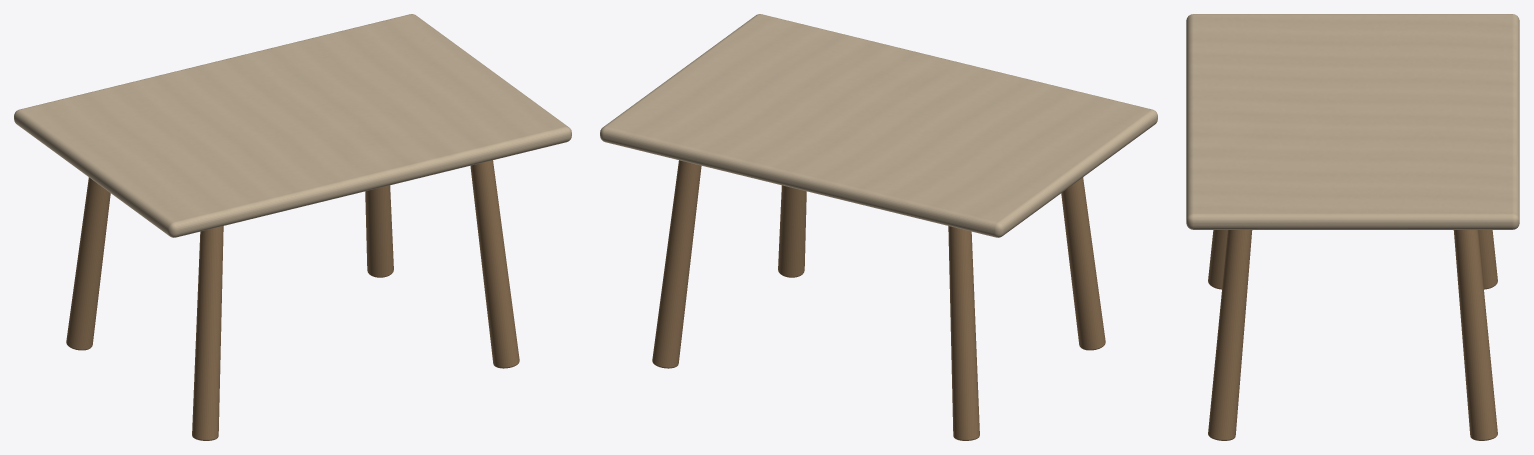
3 views of the same model, side by side, from view 1: azimuth 30°, elevation 25°; view 2: azimuth 150°, elevation 25°; view 3: azimuth 270°, elevation 25° (orthographic). The views are drawn at different scales.
Visible parts, largest first — view 1: tabletop, leg_-1_1, leg_1_1, leg_-1_-1, leg_1_-1; view 2: tabletop, leg_-1_-1, leg_1_-1, leg_-1_1, leg_1_1; view 3: tabletop, leg_1_-1, leg_1_1, leg_-1_-1, leg_-1_1.
Boxes of the visible parts, bbox=[...] form: tabletop: bbox=[14, 14, 571, 237]; leg_-1_1: bbox=[192, 226, 223, 440]; leg_1_1: bbox=[470, 160, 519, 368]; leg_-1_-1: bbox=[66, 177, 110, 350]; leg_1_-1: bbox=[365, 185, 393, 277]; tabletop: bbox=[600, 14, 1157, 237]; leg_-1_-1: bbox=[948, 226, 979, 440]; leg_1_-1: bbox=[652, 160, 701, 368]; leg_-1_1: bbox=[1061, 177, 1105, 350]; leg_1_1: bbox=[778, 185, 806, 277]; tabletop: bbox=[1186, 14, 1519, 229]; leg_1_-1: bbox=[1453, 230, 1497, 440]; leg_1_1: bbox=[1208, 230, 1252, 440]; leg_-1_-1: bbox=[1478, 230, 1497, 289]; leg_-1_1: bbox=[1208, 230, 1227, 289].
Bounding box in the file's own units: 0.8 × 0.45 × 0.55.
2 materials, 2 textured.
